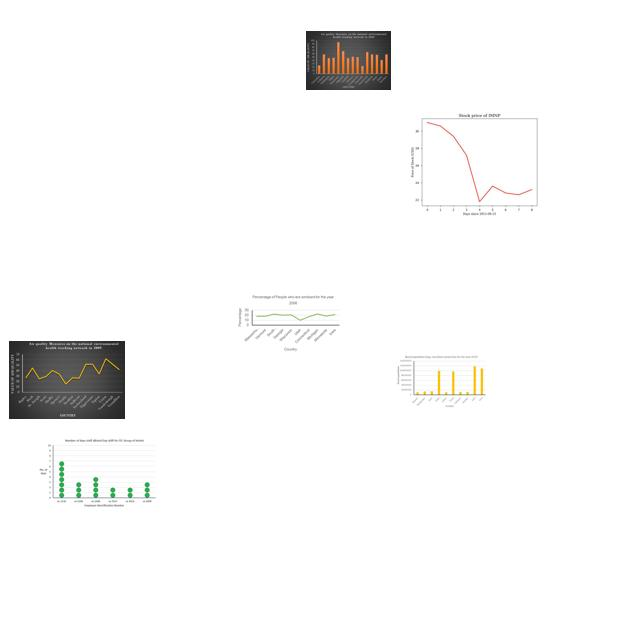Graph: (395, 105, 560, 218), (9, 341, 125, 419), (37, 438, 158, 509), (235, 292, 342, 352), (306, 31, 391, 90), (396, 354, 487, 408)
